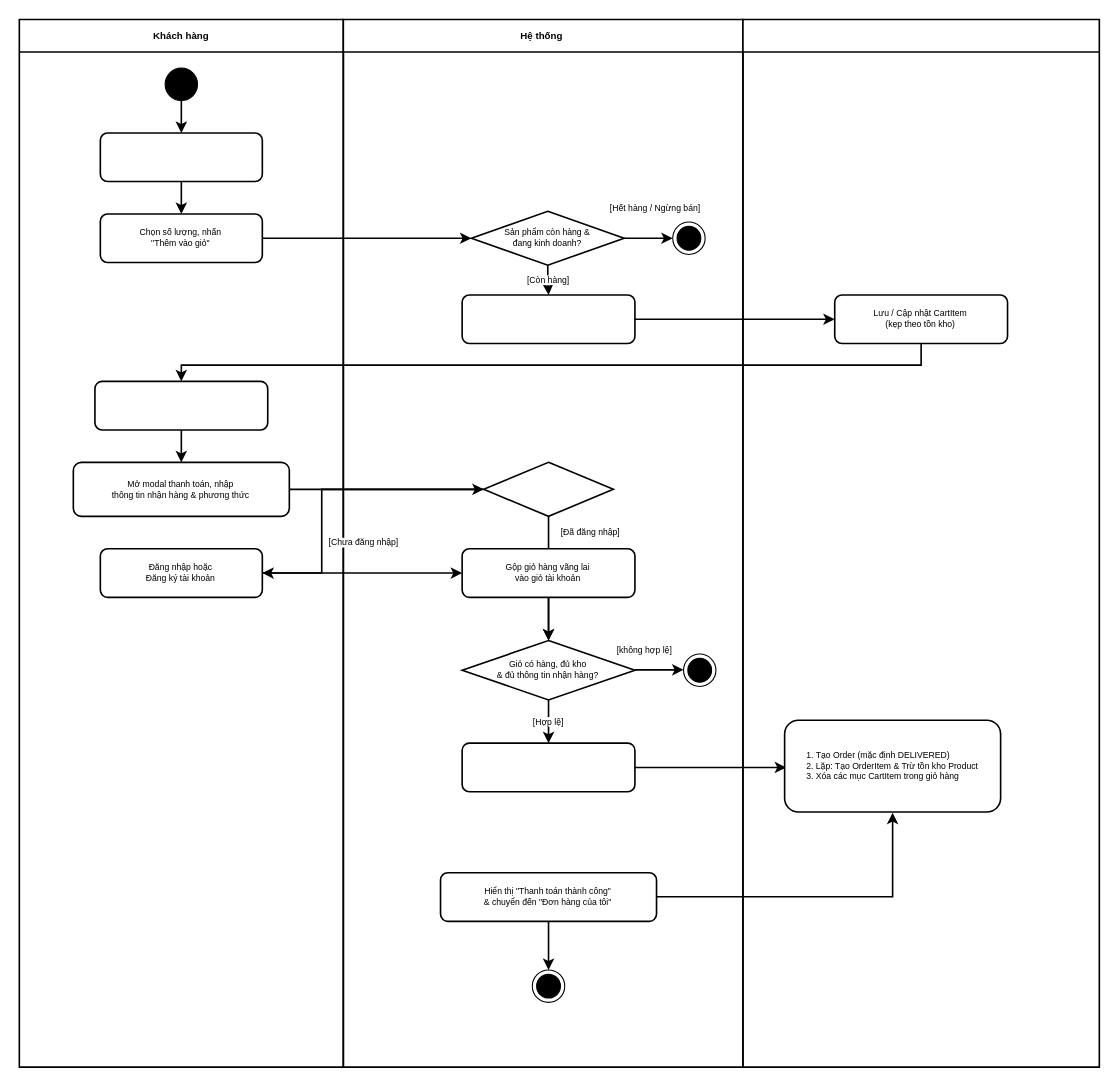
This 1119x1086 diagram has some shape labels left out. The box of each missing label's shape, as (x1, y1, x2, y2) in pixels:
CSDL MySQL: (742, 18, 1100, 1067)
Tính tổng tiền thanh toán: (461, 742, 635, 792)
Xem giỏ hàng, điều chỉnh số lượng: (94, 380, 268, 430)
Xem và tìm kiếm sản phẩm kính: (99, 132, 263, 182)
Xác định giỏ hàng (theo User hoặc Session): (461, 294, 635, 344)
Đã đăng nhập?: (482, 461, 614, 517)
